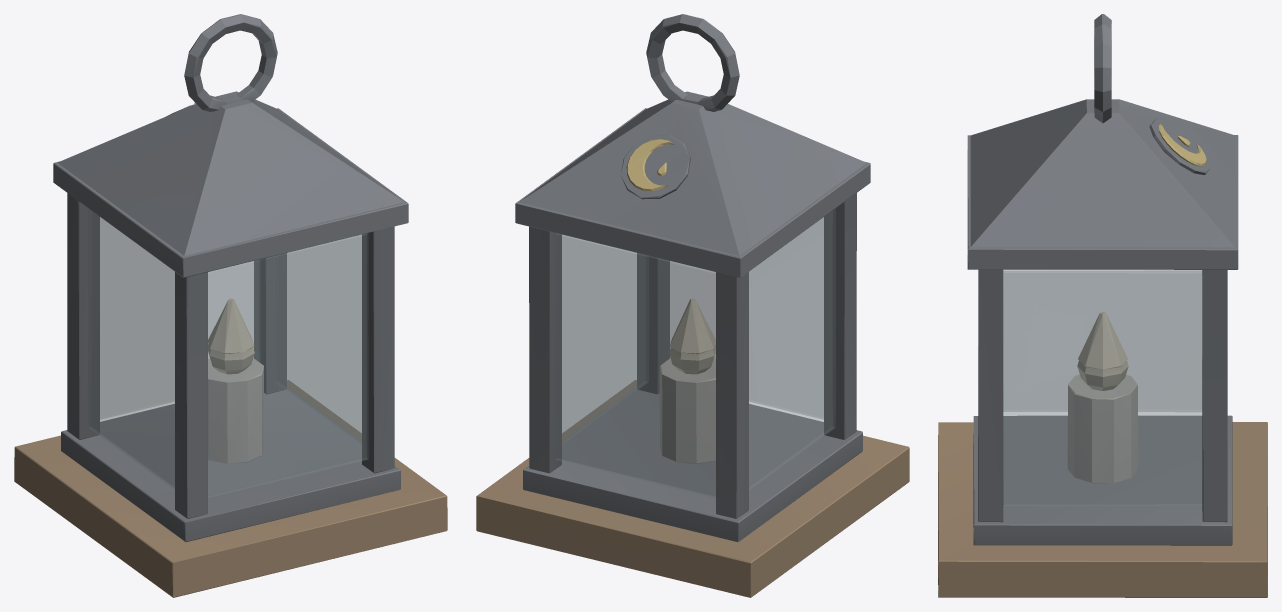
The model's file is furniture_choseung_lantern_low.glb.
The picture shows the model from 3 angles, left to right: view 1: azimuth 30°, elevation 25°; view 2: azimuth 150°, elevation 25°; view 3: azimuth 270°, elevation 25°; orthographic projection. The views are drawn at different scales.
Parts seen in each view (by area): view 1: furniture.choseung_lantern; view 2: furniture.choseung_lantern; view 3: furniture.choseung_lantern.
Part boxes in pixels (bbox=[...]): furniture.choseung_lantern: bbox=[14, 14, 447, 597]; furniture.choseung_lantern: bbox=[476, 14, 909, 597]; furniture.choseung_lantern: bbox=[938, 14, 1267, 597].
Bounding box in the file's own units: 0.28 × 0.4762 × 0.2794.
